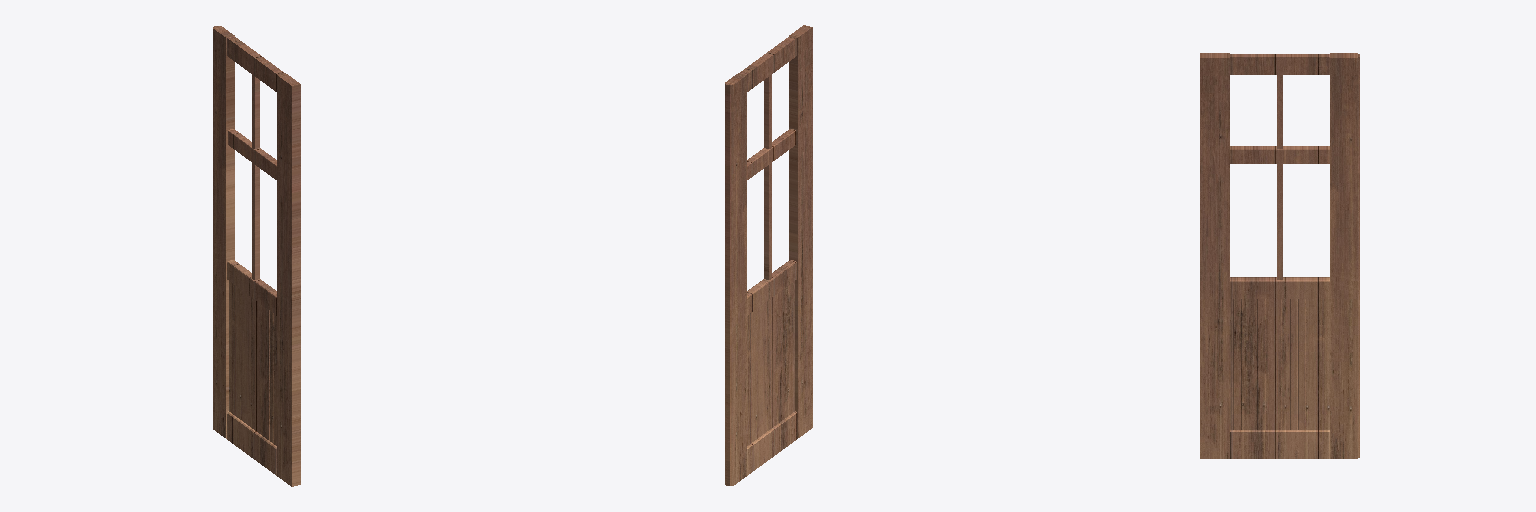
The picture shows the model from 3 angles: view 1: azimuth 30°, elevation 25°; view 2: azimuth 150°, elevation 25°; view 3: azimuth 270°, elevation 25°; orthographic projection.
Visible parts, largest first — view 1: _Door_Double:pCube28 group62, group62 _Door_Double:pCube29, group62 _Door_Double:pCube33, group62 _Door_Double:pCube39, group62 _Door_Double:pCube32, group62 _Door_Double:pCube31, group62 _Door_Double:pCube34, group62 _Door_Double:pCube43; view 2: group62 _Door_Double:pCube29, _Door_Double:pCube28 group62, group62 _Door_Double:pCube33, group62 _Door_Double:pCube39, group62 _Door_Double:pCube32, group62 _Door_Double:pCube31, group62 _Door_Double:pCube34; view 3: _Door_Double:pCube28 group62, group62 _Door_Double:pCube29, group62 _Door_Double:pCube33, group62 _Door_Double:pCube31, group62 _Door_Double:pCube32, group62 _Door_Double:pCube34, group62 _Door_Double:pCube47, group62 _Door_Double:pCube39, group62 _Door_Double:pCube30, group62 _Door_Double:pCube35, group62 _Door_Double:pCube36, group62 _Door_Double:pCube37 (+7 smaller).
Part boxes in pixels (left/top/right/bottom): _Door_Double:pCube28 group62: left=277, top=73, right=300, bottom=486; group62 _Door_Double:pCube29: left=213, top=26, right=234, bottom=438; group62 _Door_Double:pCube33: left=227, top=411, right=276, bottom=475; group62 _Door_Double:pCube39: left=252, top=75, right=259, bottom=279; group62 _Door_Double:pCube32: left=227, top=36, right=283, bottom=91; group62 _Door_Double:pCube31: left=227, top=260, right=276, bottom=315; group62 _Door_Double:pCube34: left=228, top=129, right=276, bottom=179; group62 _Door_Double:pCube43: left=265, top=308, right=269, bottom=440; group62 _Door_Double:pCube29: left=725, top=73, right=746, bottom=485; _Door_Double:pCube28 group62: left=789, top=25, right=812, bottom=438; group62 _Door_Double:pCube33: left=747, top=411, right=796, bottom=475; group62 _Door_Double:pCube39: left=764, top=75, right=771, bottom=279; group62 _Door_Double:pCube32: left=740, top=36, right=796, bottom=91; group62 _Door_Double:pCube31: left=747, top=260, right=796, bottom=315; group62 _Door_Double:pCube34: left=747, top=129, right=795, bottom=179; _Door_Double:pCube28 group62: left=1200, top=53, right=1229, bottom=458; group62 _Door_Double:pCube29: left=1330, top=53, right=1359, bottom=458; group62 _Door_Double:pCube33: left=1230, top=430, right=1329, bottom=458; group62 _Door_Double:pCube31: left=1230, top=277, right=1329, bottom=298; group62 _Door_Double:pCube32: left=1230, top=54, right=1329, bottom=74; group62 _Door_Double:pCube34: left=1230, top=146, right=1329, bottom=163; group62 _Door_Double:pCube47: left=1257, top=299, right=1265, bottom=429; group62 _Door_Double:pCube39: left=1277, top=75, right=1282, bottom=279; group62 _Door_Double:pCube30: left=1274, top=299, right=1281, bottom=429; group62 _Door_Double:pCube35: left=1322, top=299, right=1329, bottom=429; group62 _Door_Double:pCube36: left=1290, top=299, right=1297, bottom=429; group62 _Door_Double:pCube37: left=1314, top=299, right=1321, bottom=429.
Size of the model in its own units: 5 by 220 by 80.
Materials: 1 (1 with a texture image).